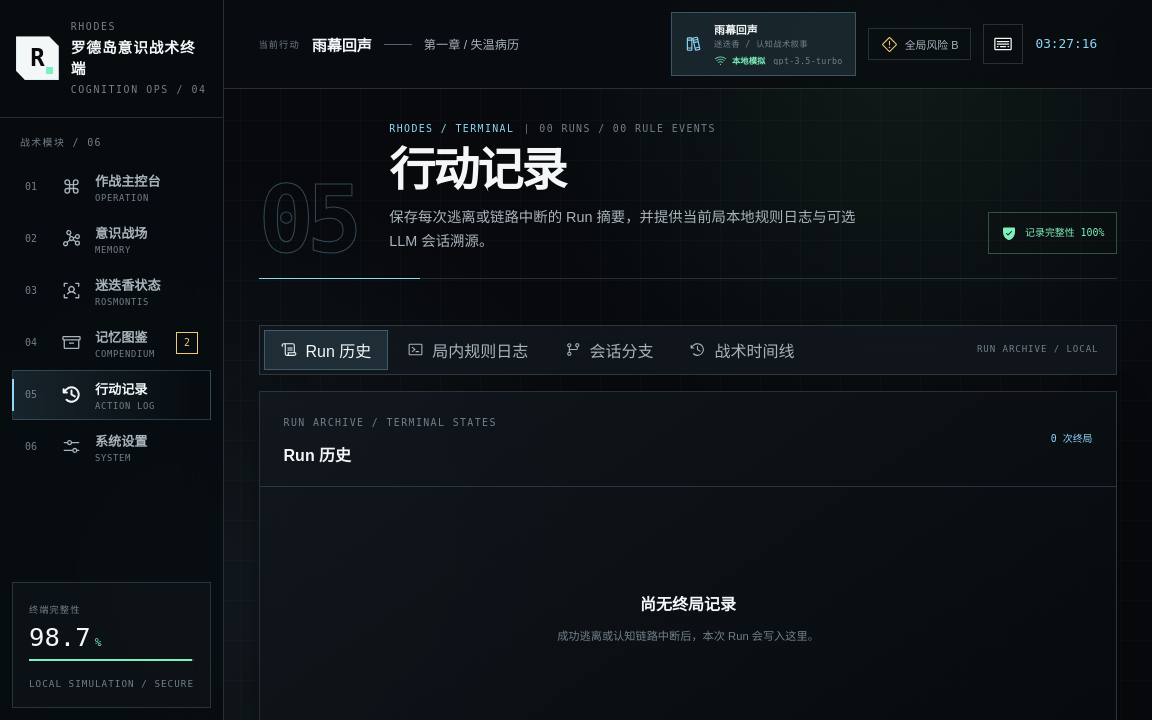
行动时间线可追溯酒馆回合
Expected: the heading "行动记录" is shown, top-left (389, 144), bottom-right (565, 196)
Expected: the button with aria-label "当前会话：雨幕回声" is shown, top-left (671, 12), bottom-right (856, 76)
Click the tab "战术时间线". click: (742, 350)
box: top-left (672, 330), bottom-right (811, 370)
(page scrolled)
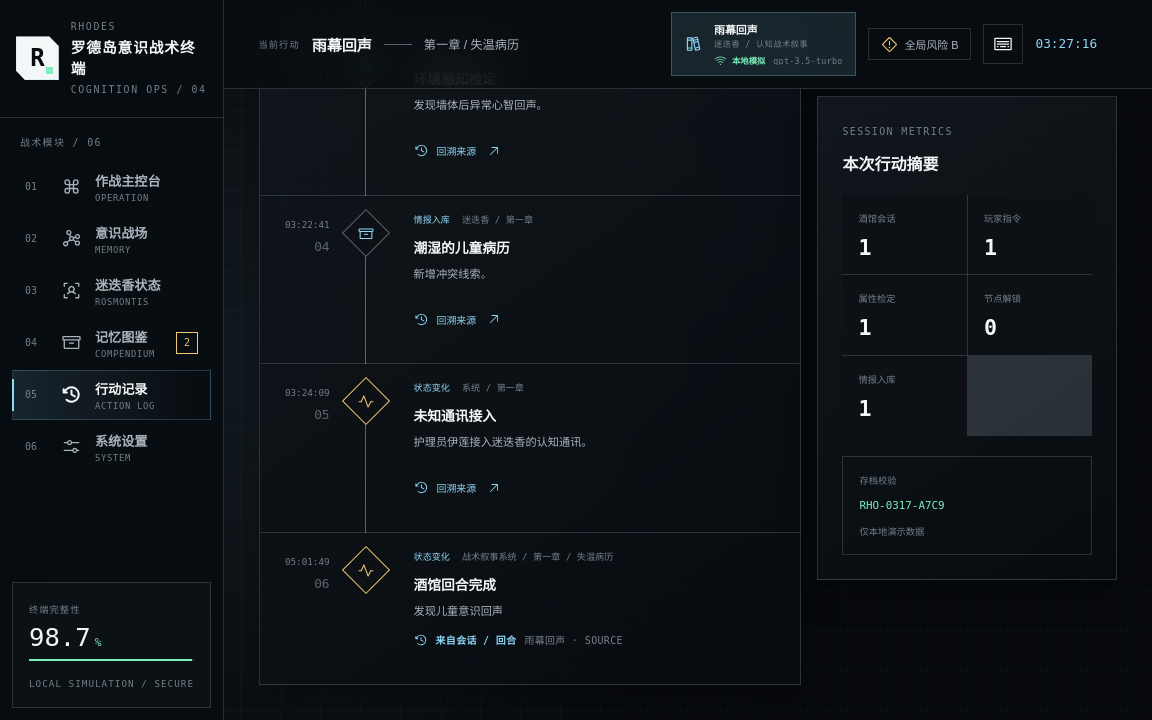
Expected: the text "发现儿童意识回声" is shown, top-left (414, 605), bottom-right (503, 617)
Expected: the link with aria-label "打开来自会话雨幕回声的来源回合" is shown, top-left (414, 633), bottom-right (623, 647)
